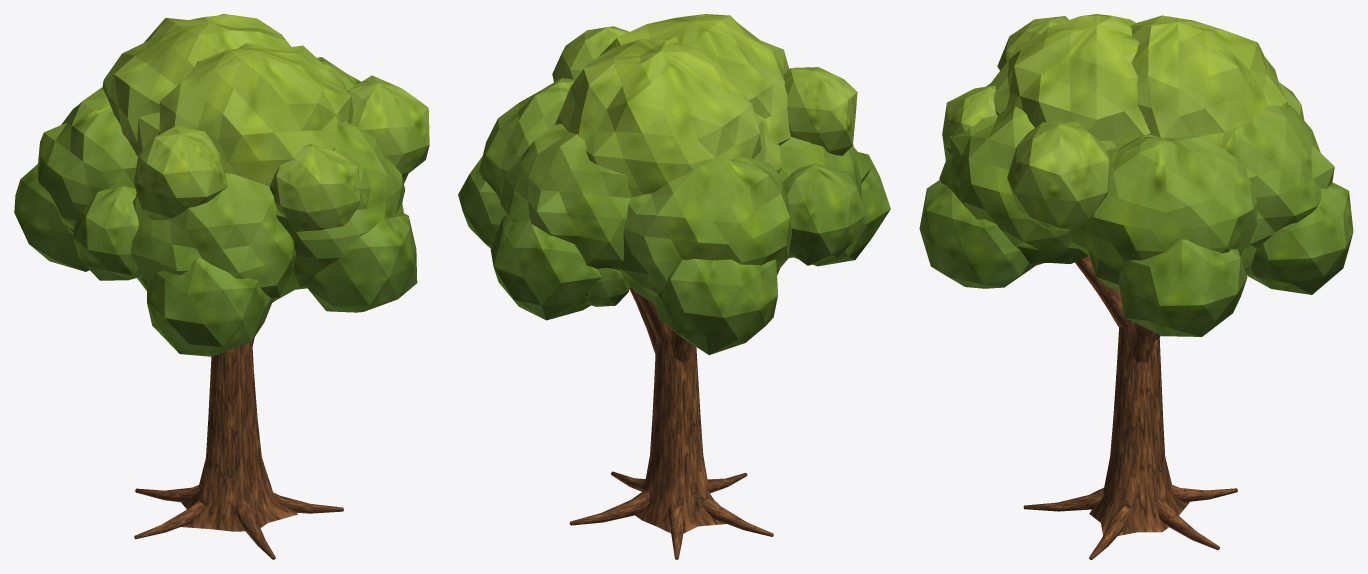
File: arbre_rond_2.glb
3 renders of one model, left to right at view 1: azimuth 30°, elevation 25°; view 2: azimuth 150°, elevation 25°; view 3: azimuth 270°, elevation 25°, orthographic. The views are drawn at different scales.
Parts seen in each view (by area): view 1: arbre_rond_2; view 2: arbre_rond_2; view 3: arbre_rond_2.
Part boxes in pixels (x1=…): arbre_rond_2: x1=14, y1=14, x2=429, y2=559; arbre_rond_2: x1=458, y1=14, x2=890, y2=559; arbre_rond_2: x1=919, y1=14, x2=1353, y2=559.
Size of the model in its own units: 5 by 6.42 by 5.12.
Materials: 2 (2 with a texture image).
